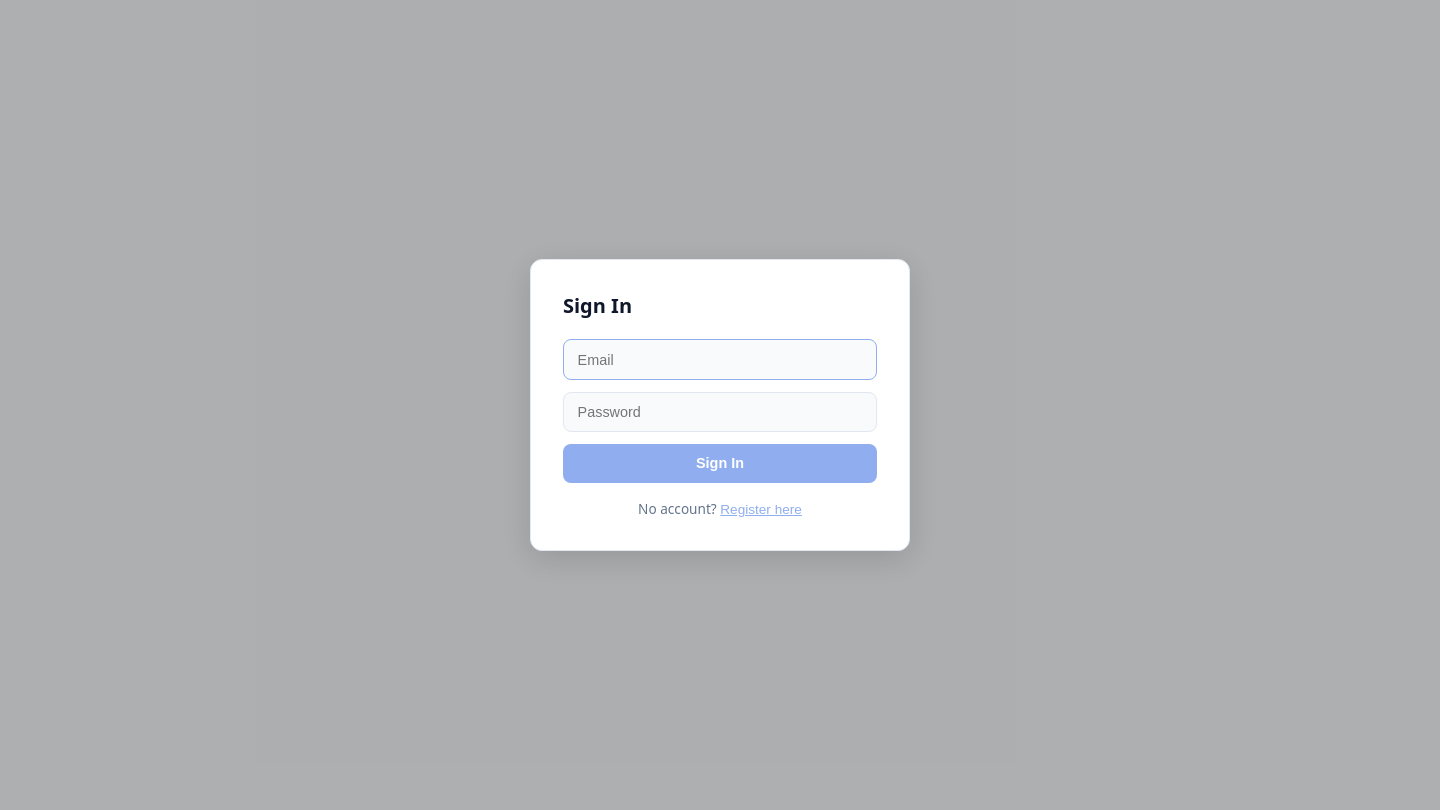
AuthModal › should toggle to register form
Step 1. Click the button "Register here" → (761, 509), box [720,502,802,517]
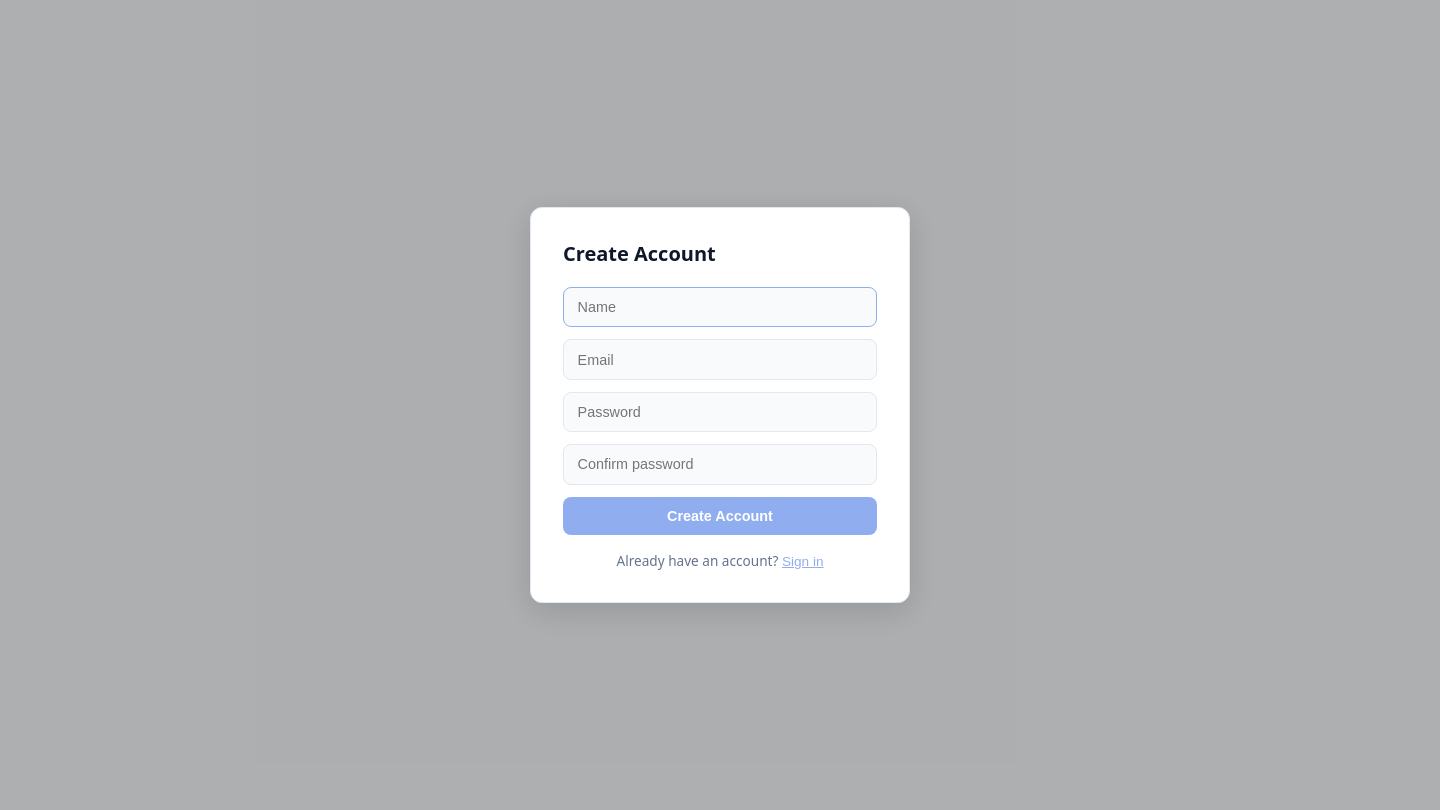
Check: the heading "Create Account" is shown, box [563,240,716,267]
Check: the field with placeholder "Name" is shown, box [563,287,877,328]
Check: the password field with placeholder "Confirm password" is shown, box [563,444,877,485]
